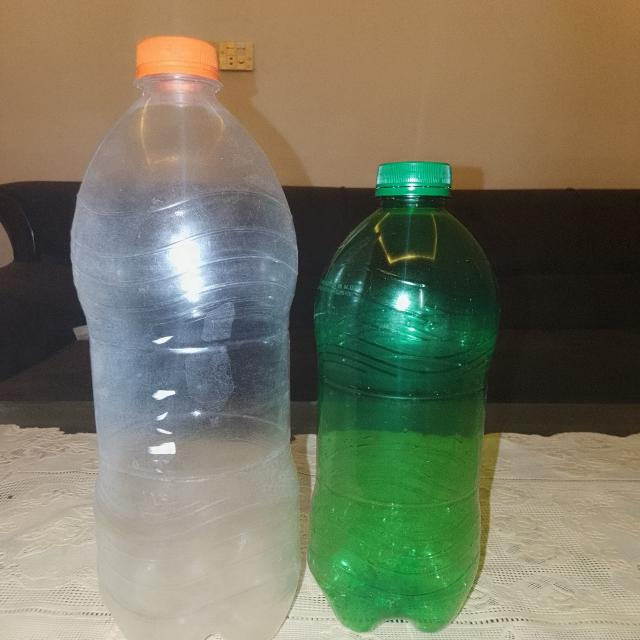bottle: (61, 27, 301, 636), (307, 136, 503, 640)
cap: (116, 31, 245, 96), (354, 153, 476, 205)
